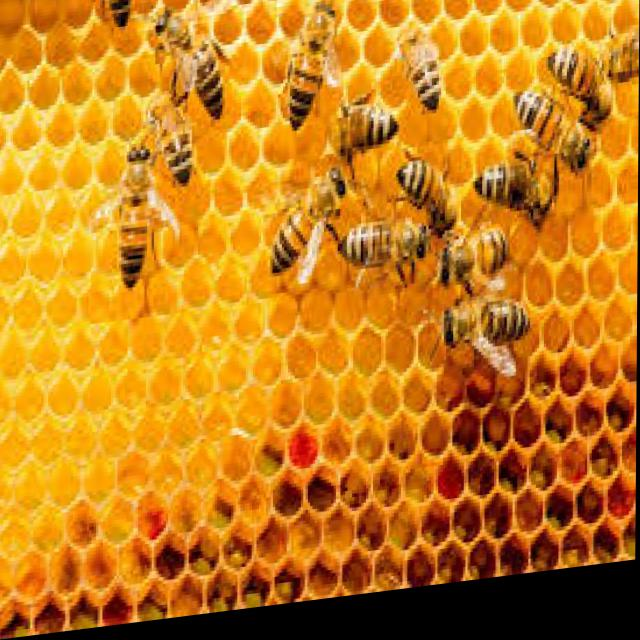Abeille: (96, 129, 169, 307), (144, 0, 236, 130), (468, 149, 573, 259), (444, 288, 557, 390), (268, 161, 352, 294), (336, 208, 433, 312), (514, 91, 603, 203), (548, 36, 619, 153), (280, 0, 339, 138), (393, 27, 458, 127), (401, 151, 463, 255), (158, 99, 203, 198)
